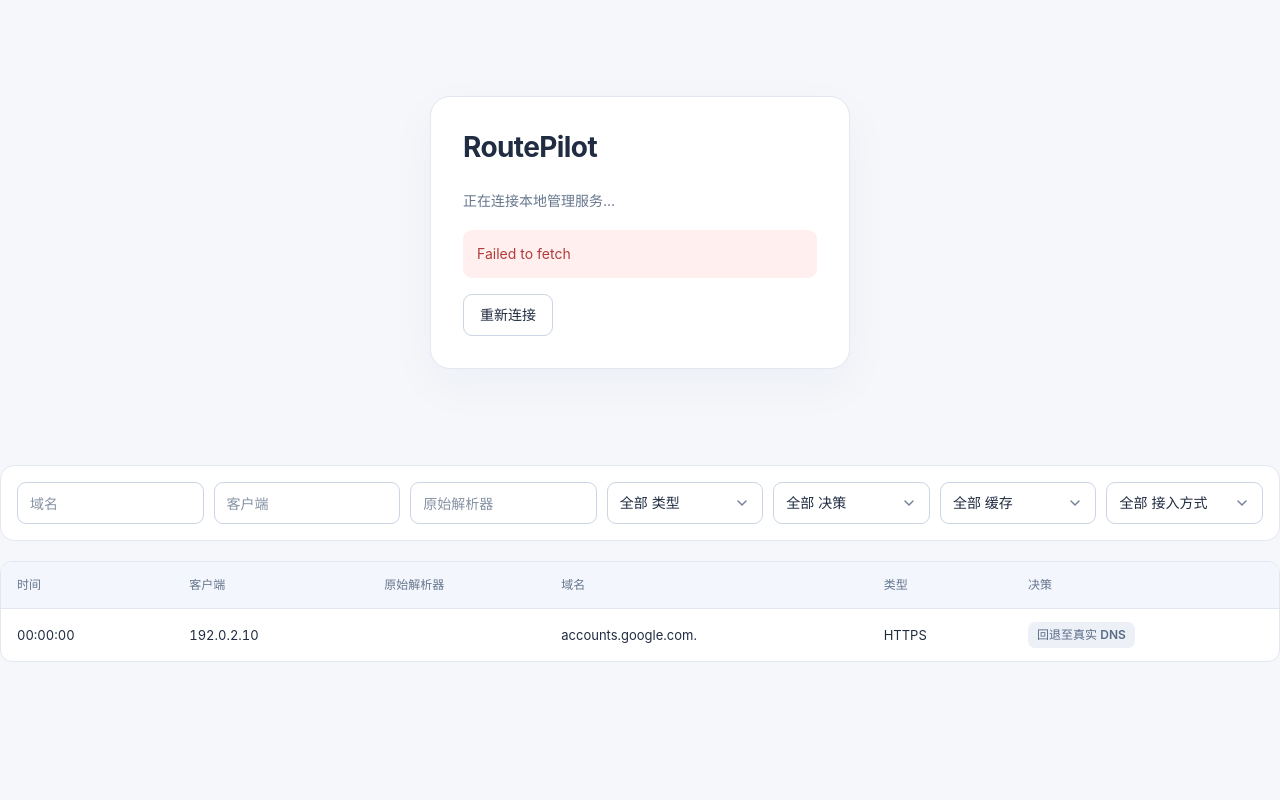
Test: distinguishes operational fallback from a DIRECT rule match
Expected: the cell "回退至真实 DNS" is shown, x1=1012 y1=608 x2=1279 y2=661
Step 1. Click the cell "accounts.google.com." → {"x": 629, "y": 635}, box x1=545 y1=608 x2=868 y2=661
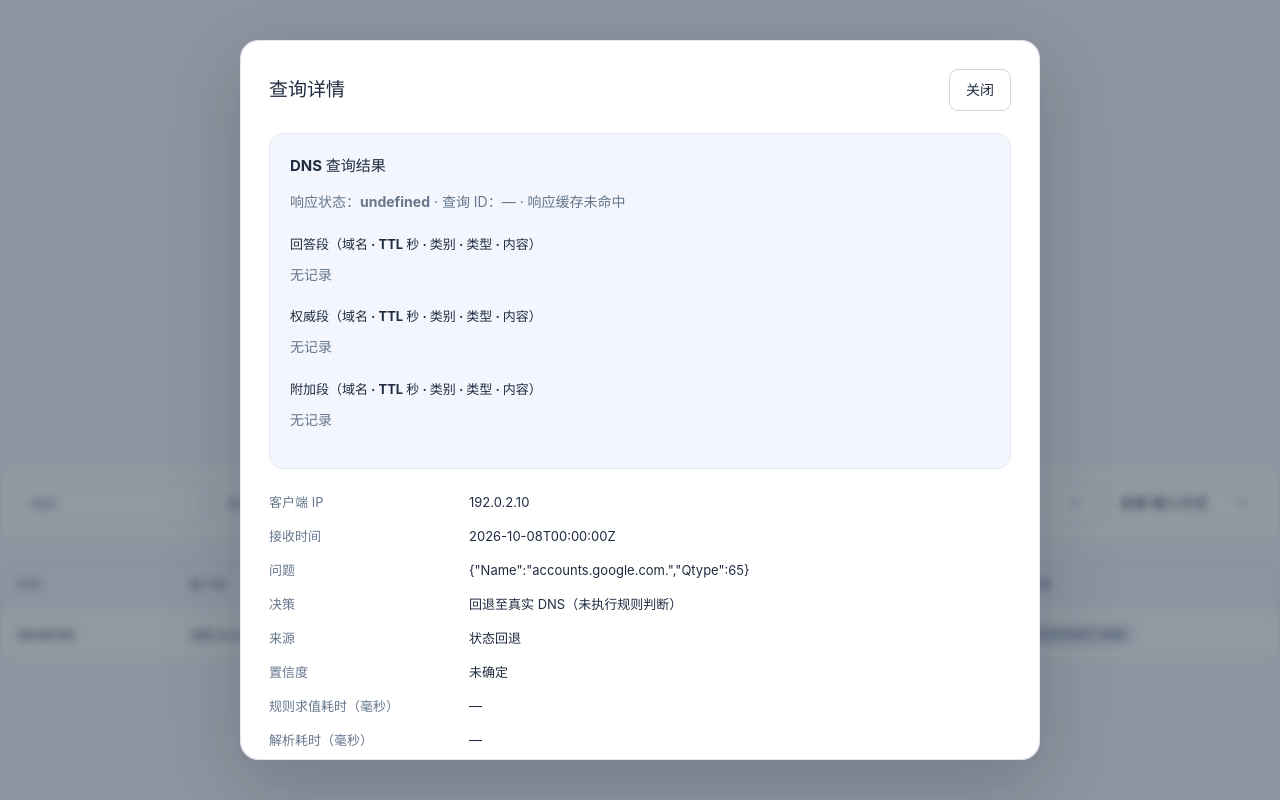
Now the text "回退至真实 DNS（未执行规则判断）" is shown, box x1=469 y1=596 x2=682 y2=612
